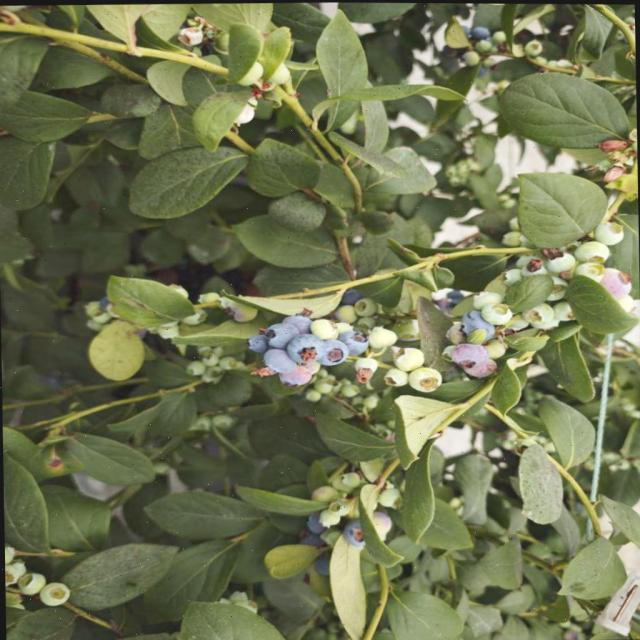RipeBlueBerry: (285, 332, 326, 363), (259, 321, 299, 348), (260, 347, 295, 375), (339, 330, 369, 354)
Semi-RipeBlueBerry: (451, 343, 488, 368)
UnripeBlueBerry: (407, 366, 443, 392), (389, 346, 425, 371)
